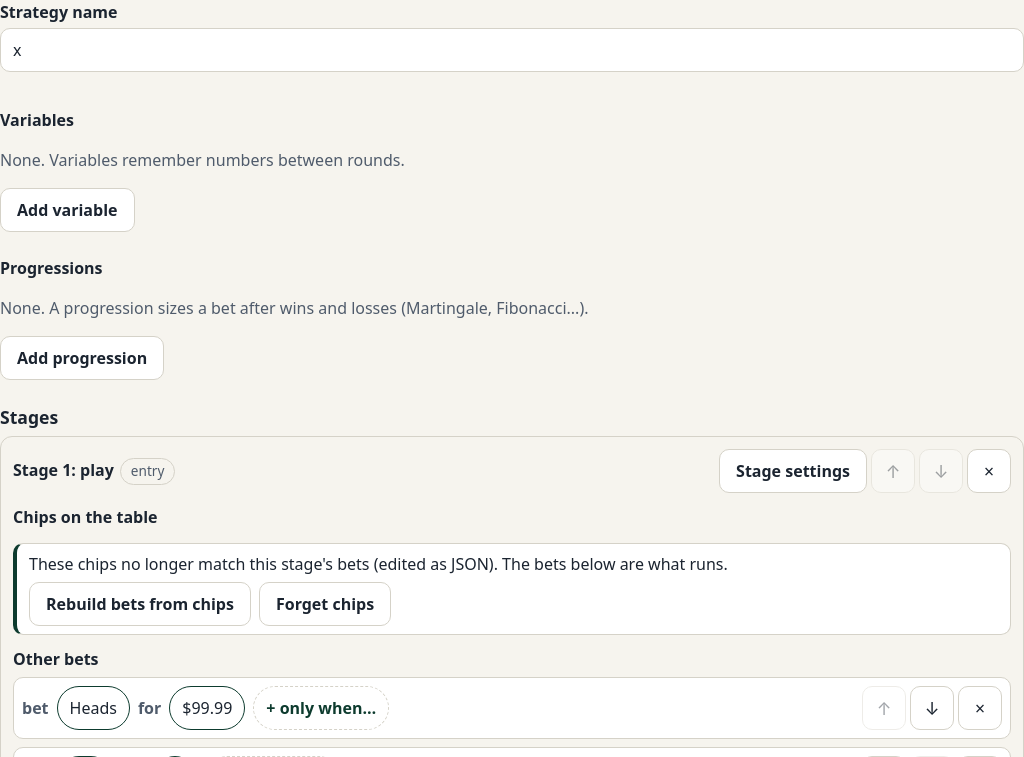
Test: ChipsPanel: stale chips › Rebuild drops the old rows the block shadows and keeps the rest as manual rows
The width and height of the screenshot is (1024, 757).
Step 1. Click the button "Rebuild bets from chips" → (140, 604), box left=29, top=582, right=251, bottom=626
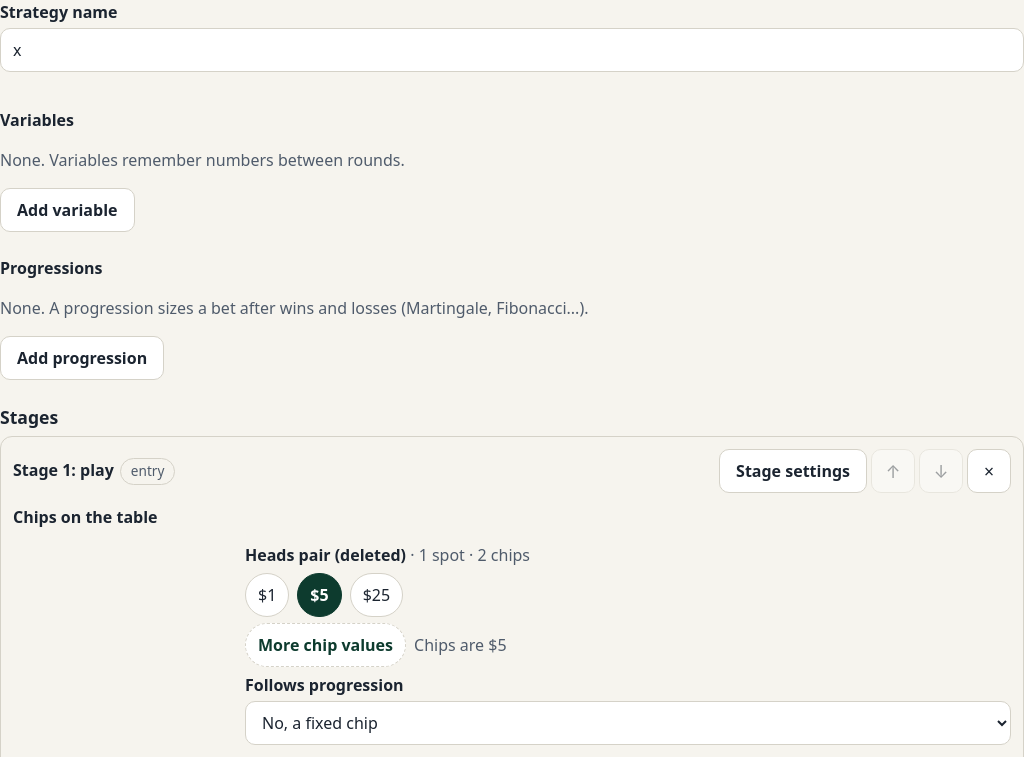
expect the text "no longer match" is gone: met
